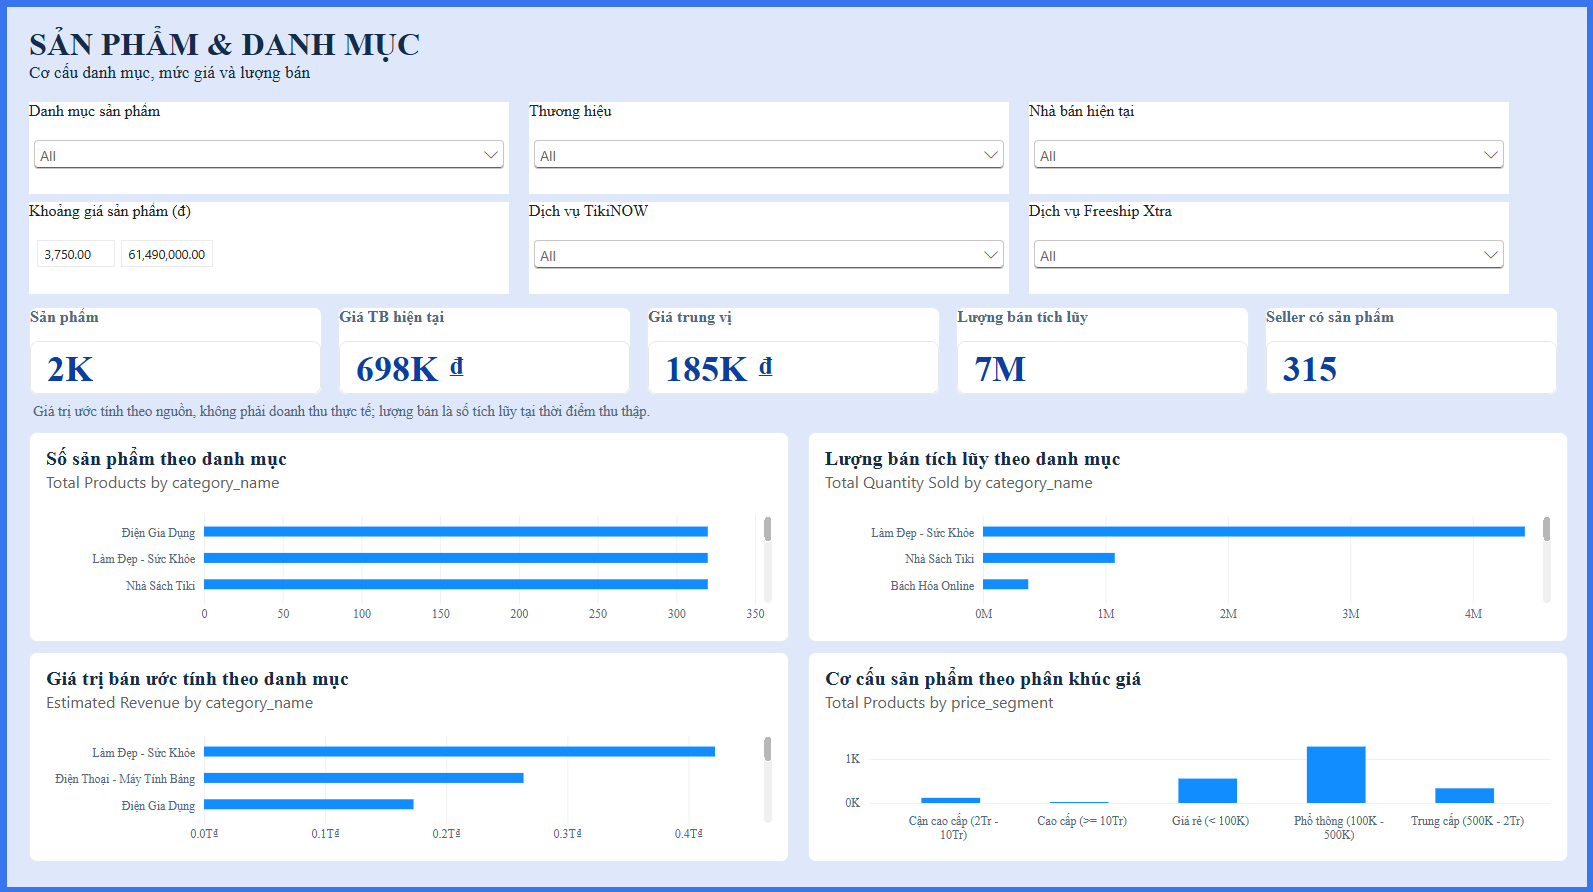

Layout of this report page (visuals, bound fields, positions):
{"tool":"powerbi","page":{"name":"Sản phẩm & danh mục","canvas":[1600,900],"ordinal":1},"visuals":[{"type":"shape","box":[2,2,1596,896],"z":0},{"type":"cardVisual","title":"Sản phẩm","fields":{"Data":["KPI_Measures.Total Products"]},"box":[32,310,292.6,88],"z":1000},{"type":"cardVisual","title":"Giá TB hiện tại","fields":{"Data":["KPI_Measures.Average Product Price"]},"box":[341,310,292.6,88],"z":2000},{"type":"cardVisual","title":"Giá trung vị","fields":{"Data":["KPI_Measures.Median Product Price"]},"box":[650,310,292.6,88],"z":3000},{"type":"cardVisual","title":"Lượng bán tích lũy","fields":{"Data":["KPI_Measures.Total Quantity Sold"]},"box":[959.1,310,292.6,88],"z":4000},{"type":"cardVisual","title":"Seller có sản phẩm","fields":{"Data":["KPI_Measures.Sellers with Products"]},"box":[1268.1,310,292.6,88],"z":5000},{"type":"clusteredBarChart","title":"Số sản phẩm theo danh mục","fields":{"Category":["Dim_Category.category_name"],"Y":["KPI_Measures.Total Products"]},"box":[32,435,760.2,210],"z":10000},{"type":"clusteredBarChart","title":"Lượng bán tích lũy theo danh mục","fields":{"Category":["Dim_Category.category_name"],"Y":["KPI_Measures.Total Quantity Sold"]},"box":[811,435,760.2,210],"z":11000},{"type":"clusteredBarChart","title":"Giá trị bán ước tính theo danh mục","fields":{"Category":["Dim_Category.category_name"],"Y":["KPI_Measures.Estimated Revenue"]},"box":[32,655,760.2,210],"z":12000},{"type":"columnChart","title":"Cơ cấu sản phẩm theo phân khúc giá","fields":{"Category":["Dim_Product.price_segment"],"Y":["KPI_Measures.Total Products"]},"box":[811,655,760.2,210],"z":13000},{"type":"textbox","box":[32,29,1509.9,84],"z":99000},{"type":"textbox","box":[35.5,404,1515.8,26],"z":100000},{"type":"slicer","title":"Danh mục sản phẩm","fields":{"Values":["Dim_Category.category_name"]},"box":[32,105,480,92],"z":200000},{"type":"slicer","title":"Thương hiệu","fields":{"Values":["Dim_Product.brand_name"]},"box":[532,105,480,92],"z":200001},{"type":"slicer","title":"Nhà bán hiện tại","fields":{"Values":["Dim_Seller.seller_name"]},"box":[1032,105,480,92],"z":200002},{"type":"slicer","title":"Khoảng giá sản phẩm (đ)","fields":{"Values":["Dim_Product.price"]},"box":[32,205,480,92],"z":200100},{"type":"slicer","title":"Dịch vụ TikiNOW","fields":{"Values":["Dim_Product.tiki_filter"]},"box":[532,205,480,92],"z":200101},{"type":"slicer","title":"Dịch vụ Freeship Xtra","fields":{"Values":["Dim_Product.freeship_filter"]},"box":[1032,205,480,92],"z":200102}]}

Visuals, with their boxes in screenshot pixels (x1, y1, x2, y2), scaled from the page's 1600x900 canvas onto the 1593x892 screenshot:
shape: <region>2, 2, 1591, 890</region>
"Sản phẩm" cardVisual: <region>32, 307, 323, 394</region>
"Giá TB hiện tại" cardVisual: <region>340, 307, 631, 394</region>
"Giá trung vị" cardVisual: <region>647, 307, 938, 394</region>
"Lượng bán tích lũy" cardVisual: <region>955, 307, 1246, 394</region>
"Seller có sản phẩm" cardVisual: <region>1263, 307, 1554, 394</region>
"Số sản phẩm theo danh mục" clusteredBarChart: <region>32, 431, 789, 639</region>
"Lượng bán tích lũy theo danh mục" clusteredBarChart: <region>807, 431, 1564, 639</region>
"Giá trị bán ước tính theo danh mục" clusteredBarChart: <region>32, 649, 789, 857</region>
"Cơ cấu sản phẩm theo phân khúc giá" columnChart: <region>807, 649, 1564, 857</region>
textbox: <region>32, 29, 1535, 112</region>
textbox: <region>35, 400, 1545, 426</region>
"Danh mục sản phẩm" slicer: <region>32, 104, 510, 195</region>
"Thương hiệu" slicer: <region>530, 104, 1008, 195</region>
"Nhà bán hiện tại" slicer: <region>1027, 104, 1505, 195</region>
"Khoảng giá sản phẩm (đ)" slicer: <region>32, 203, 510, 294</region>
"Dịch vụ TikiNOW" slicer: <region>530, 203, 1008, 294</region>
"Dịch vụ Freeship Xtra" slicer: <region>1027, 203, 1505, 294</region>
